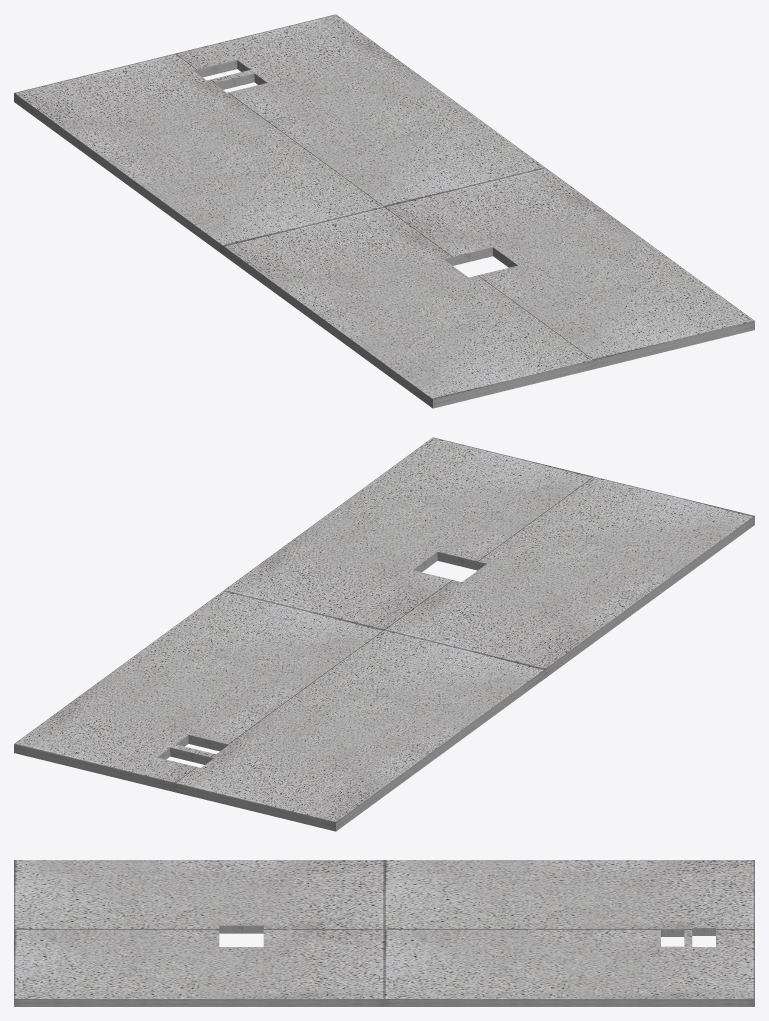
File: Floor_1F.fbx
3 renders of one model, top to bottom at view 1: azimuth 30°, elevation 25°; view 2: azimuth 150°, elevation 25°; view 3: azimuth 270°, elevation 25°, orthographic. The views are drawn at different scales.
Visible parts, largest first — view 1: Floor_1F; view 2: Floor_1F; view 3: Floor_1F.
Part boxes in pixels (x1=…): Floor_1F: x1=14, y1=14, x2=754, y2=408; Floor_1F: x1=14, y1=437, x2=754, y2=831; Floor_1F: x1=14, y1=860, x2=754, y2=1006.
Size of the model in its own units: 37.32 by 1 by 84.07.
1 material, 1 textured.
